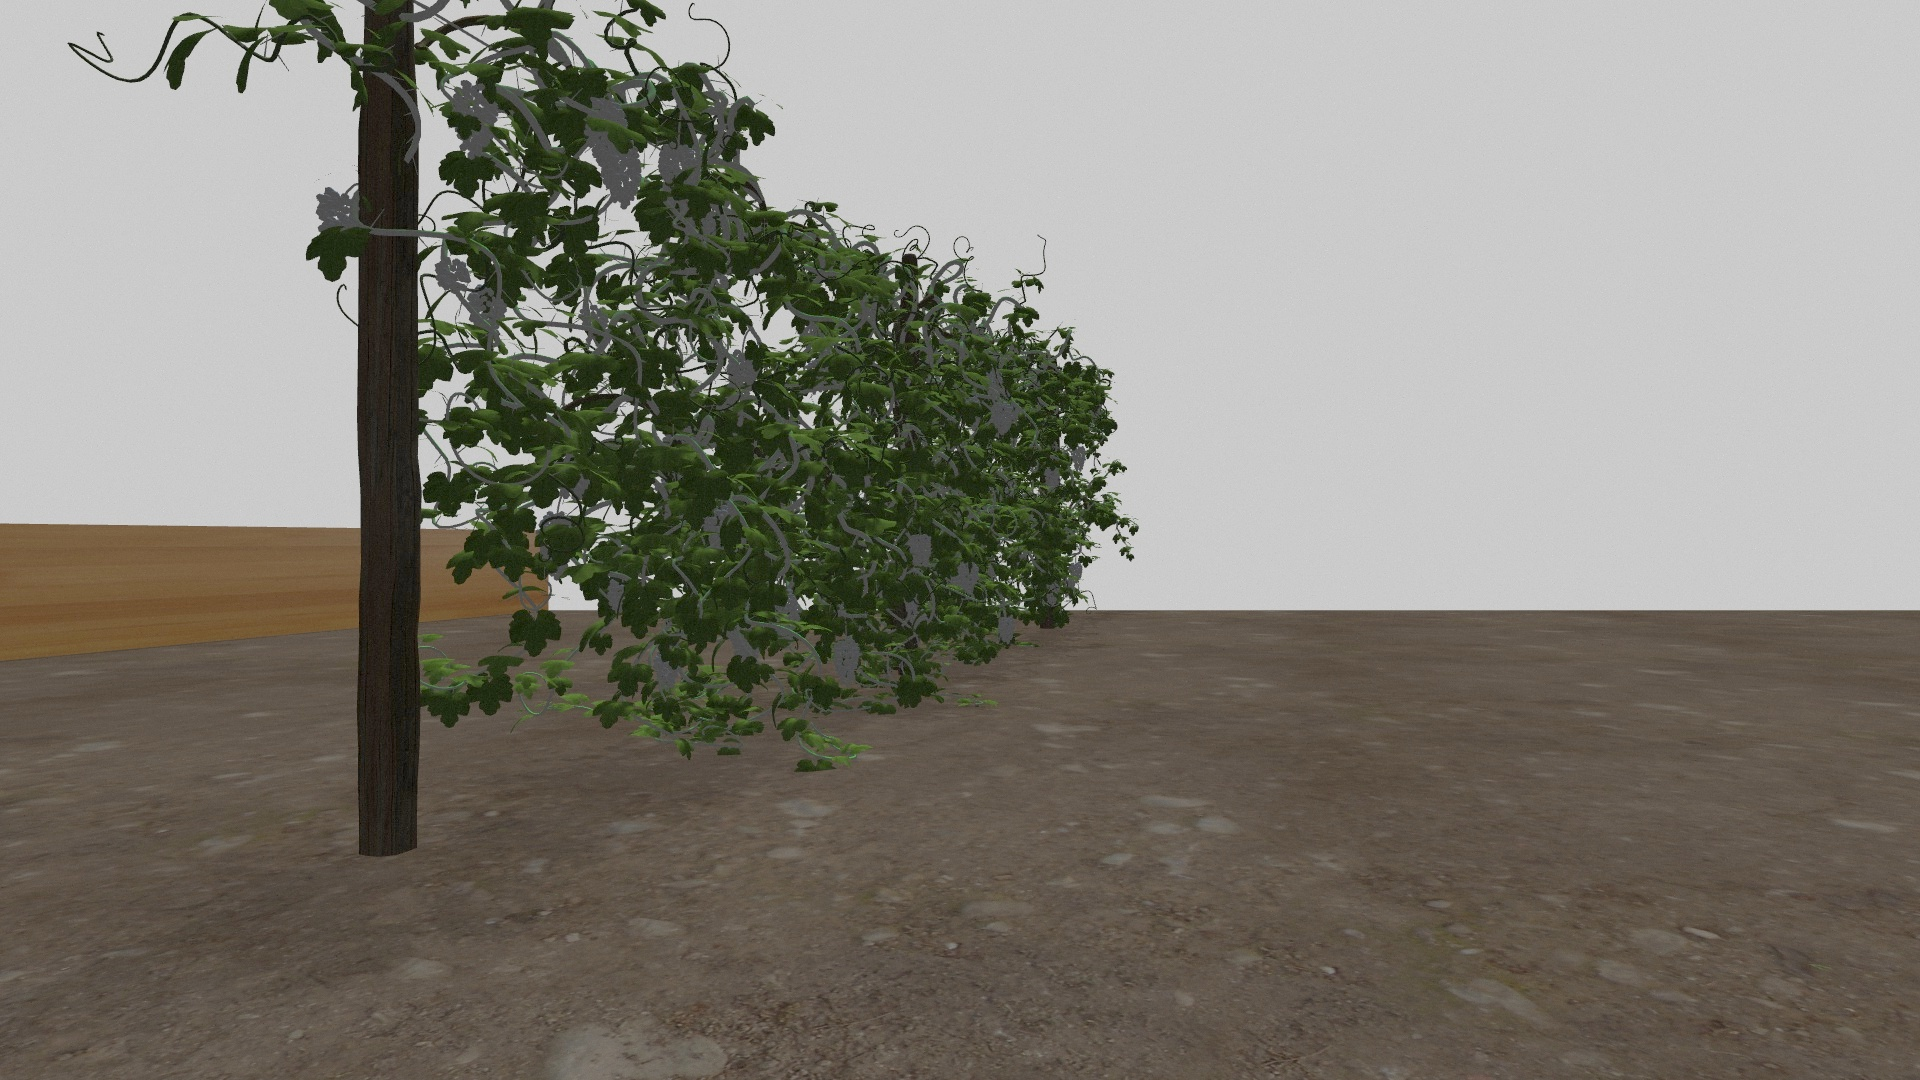grape: (451, 79, 495, 160), (583, 96, 628, 166), (601, 146, 645, 210), (658, 140, 698, 190), (313, 185, 353, 231), (467, 287, 504, 334), (829, 634, 858, 688), (434, 256, 472, 295), (725, 349, 757, 394), (775, 588, 800, 638), (727, 626, 758, 661), (651, 650, 678, 691), (957, 559, 981, 596), (909, 531, 934, 566), (990, 402, 1014, 436), (607, 580, 626, 615), (997, 617, 1017, 645), (1069, 446, 1088, 472), (1044, 467, 1062, 495), (1044, 582, 1062, 607), (1068, 563, 1083, 585)
